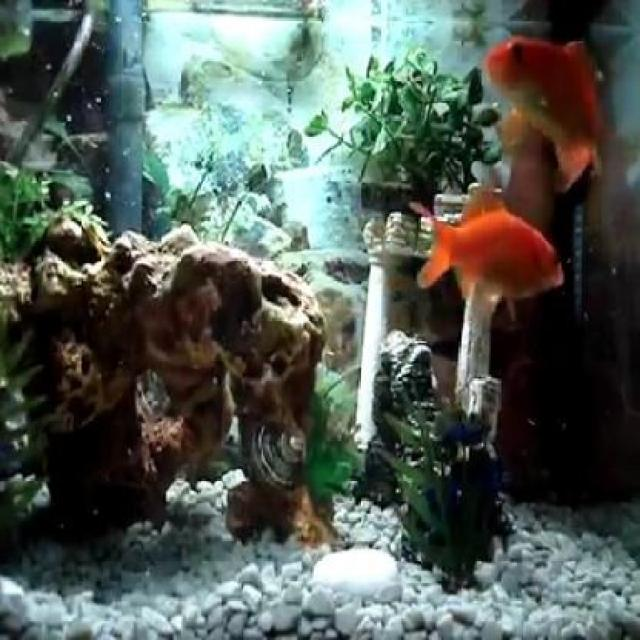GoldFish: (404, 182, 565, 336), (484, 39, 611, 187)
